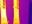Hotspot: (0, 0, 8, 23), (12, 0, 20, 23)
